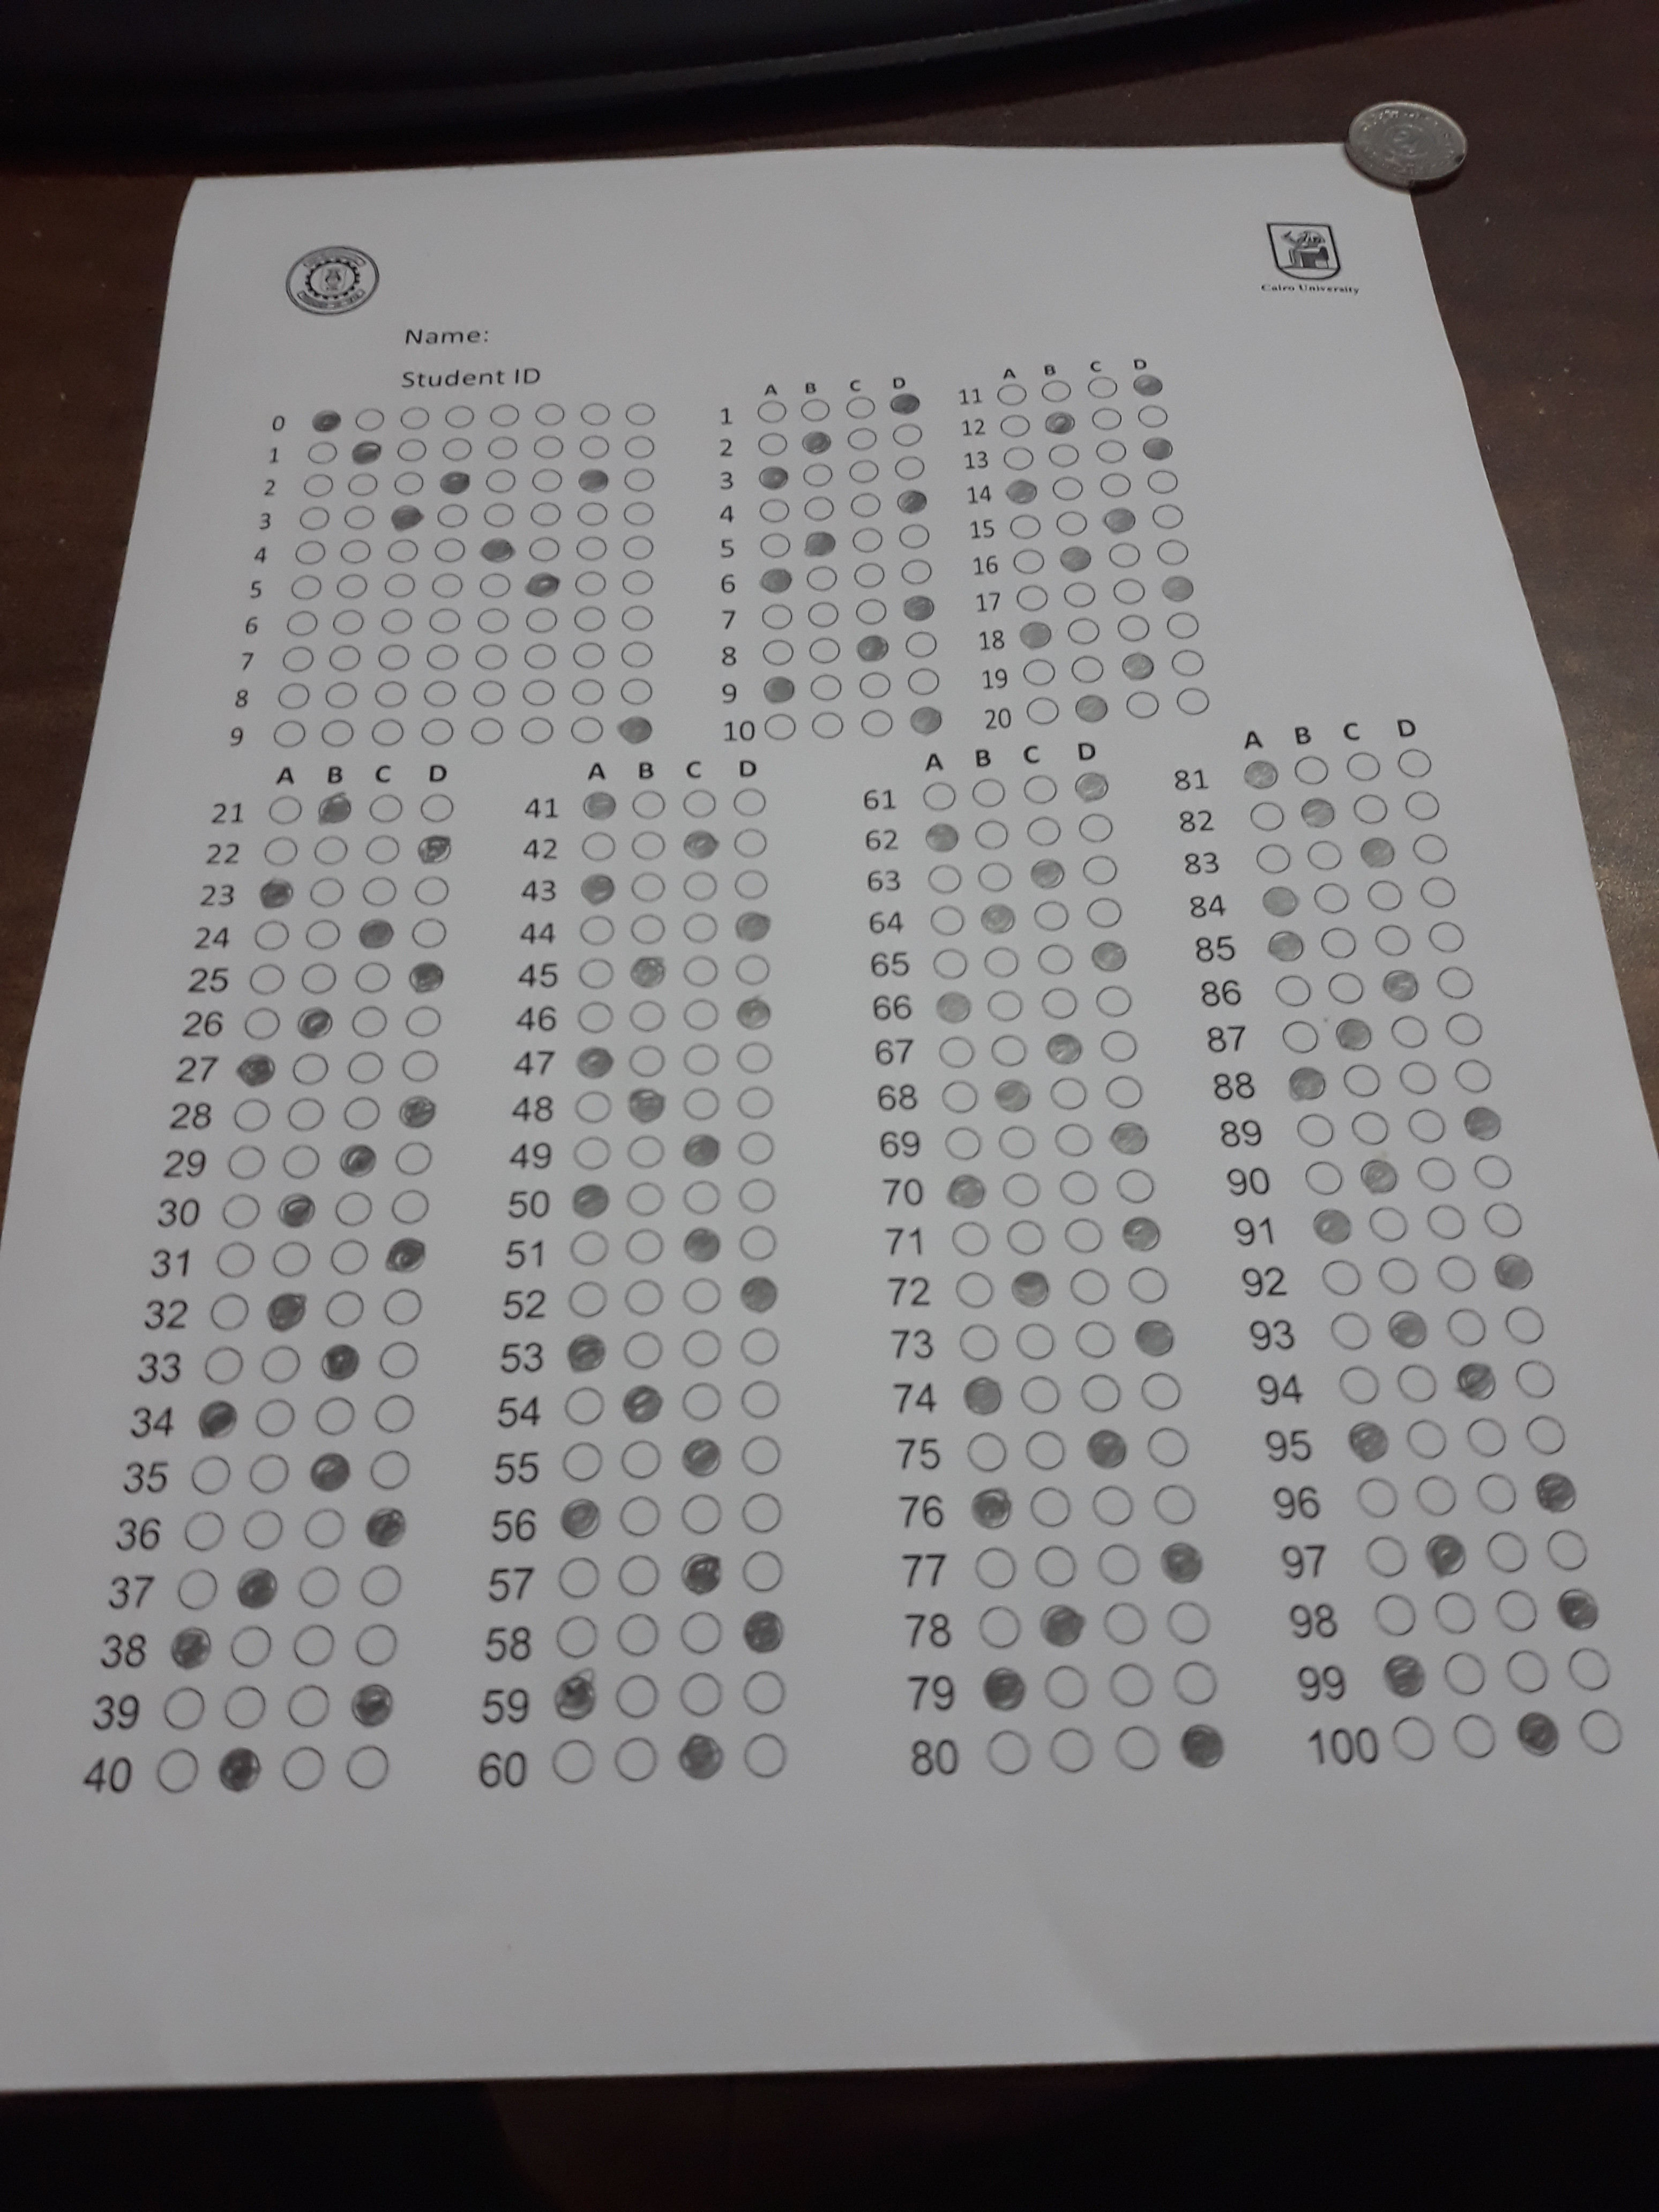not-c: (160, 1681, 211, 1731), (556, 1554, 606, 1604), (1363, 1533, 1413, 1583), (1483, 1527, 1534, 1578), (1047, 1724, 1096, 1775), (613, 1672, 662, 1723), (676, 1670, 725, 1721), (153, 1745, 202, 1796), (221, 1681, 270, 1731), (284, 1681, 333, 1731), (288, 1620, 338, 1669), (676, 1608, 727, 1656), (552, 1613, 601, 1663), (1371, 1592, 1422, 1641), (1431, 1588, 1481, 1637), (1450, 1710, 1499, 1761), (1565, 1644, 1615, 1693), (1096, 1538, 1145, 1588), (1107, 1660, 1155, 1710), (549, 1737, 598, 1785), (985, 1728, 1033, 1777), (612, 1735, 660, 1784), (971, 1541, 1019, 1590), (742, 1731, 791, 1780), (739, 1669, 788, 1717), (343, 1743, 392, 1792), (281, 1743, 329, 1792), (352, 1620, 401, 1669), (227, 1622, 275, 1670), (613, 1611, 662, 1660), (1112, 1723, 1161, 1771), (1542, 1526, 1591, 1575), (1493, 1587, 1542, 1635), (1391, 1714, 1439, 1763), (1441, 1649, 1490, 1698), (1504, 1648, 1553, 1696), (1577, 1707, 1626, 1756), (1019, 1426, 1068, 1475), (1164, 1599, 1213, 1648), (1040, 1663, 1089, 1712), (1171, 1658, 1220, 1707), (1101, 1599, 1150, 1648), (976, 1602, 1025, 1651), (1138, 1367, 1185, 1416), (1392, 1359, 1439, 1407), (1462, 1414, 1511, 1461), (1523, 1409, 1570, 1458), (1473, 1468, 1520, 1517), (1413, 1472, 1460, 1521), (1150, 1480, 1197, 1529), (1026, 1484, 1073, 1533), (1030, 1541, 1077, 1590), (563, 1383, 610, 1430), (737, 1376, 784, 1423), (620, 1273, 667, 1320), (565, 1277, 612, 1324), (357, 1562, 404, 1609), (253, 1395, 300, 1442), (964, 1430, 1011, 1477), (1145, 1425, 1192, 1472), (1326, 1306, 1373, 1353), (1337, 1362, 1384, 1409), (1513, 1355, 1560, 1402), (1403, 1416, 1450, 1463), (1352, 1475, 1399, 1522), (1089, 1484, 1136, 1531), (322, 1284, 368, 1331), (380, 1284, 425, 1331), (681, 1378, 727, 1425), (213, 1235, 258, 1282), (680, 1325, 725, 1372), (622, 1327, 667, 1374), (680, 1271, 725, 1318), (617, 1552, 662, 1599), (296, 1562, 342, 1609), (240, 1507, 286, 1554), (181, 1507, 227, 1554), (188, 1451, 234, 1498), (368, 1447, 413, 1494), (619, 1494, 664, 1541), (739, 1489, 784, 1536), (741, 1432, 786, 1479), (619, 1435, 664, 1482), (561, 1439, 606, 1486), (371, 1390, 416, 1437), (312, 1392, 357, 1439), (258, 1341, 303, 1388), (202, 1341, 247, 1388), (375, 1336, 420, 1383), (268, 1235, 314, 1280), (326, 1235, 371, 1280), (739, 1325, 784, 1371), (174, 1566, 220, 1611), (301, 1505, 347, 1550), (246, 1451, 291, 1496), (742, 1548, 788, 1594), (680, 1491, 725, 1536), (207, 1287, 253, 1332), (1124, 1263, 1171, 1306), (624, 1224, 669, 1268), (566, 1224, 612, 1268), (1002, 1216, 1047, 1259), (948, 1217, 993, 1261), (1375, 1254, 1420, 1298), (1319, 1256, 1364, 1299), (1445, 1306, 1490, 1350), (951, 1268, 999, 1310), (1012, 1318, 1060, 1360), (737, 1221, 781, 1264), (1061, 1214, 1107, 1256), (955, 1322, 1000, 1364), (1068, 1266, 1114, 1308), (1425, 1200, 1471, 1242), (1073, 1318, 1119, 1360), (1364, 1204, 1410, 1245), (1480, 1200, 1525, 1242), (1434, 1254, 1480, 1296), (1504, 1303, 1549, 1345), (1077, 1372, 1122, 1414), (1018, 1374, 1063, 1416), (220, 1190, 263, 1231), (1056, 1169, 1101, 1207), (1338, 1062, 1384, 1101), (1293, 1111, 1338, 1150), (1471, 1153, 1516, 1191), (1413, 1155, 1459, 1193), (342, 1094, 383, 1134), (230, 1096, 272, 1136), (289, 1049, 331, 1089), (345, 1049, 387, 1089), (399, 1045, 441, 1085), (240, 1005, 282, 1045), (680, 951, 721, 991), (732, 949, 774, 989), (352, 956, 394, 996), (251, 916, 293, 956), (394, 1137, 436, 1177), (734, 1083, 775, 1123), (573, 1087, 615, 1127), (680, 1040, 721, 1080), (680, 995, 721, 1035), (575, 996, 617, 1036), (577, 953, 619, 993), (995, 1123, 1039, 1162), (943, 1125, 986, 1163), (1000, 1170, 1044, 1209), (1114, 1167, 1157, 1205), (1452, 1055, 1495, 1094), (1396, 1059, 1439, 1097), (1405, 1106, 1448, 1144), (1349, 1109, 1392, 1148), (1302, 1158, 1345, 1197), (936, 1078, 981, 1115), (301, 914, 342, 954), (281, 1141, 321, 1181), (572, 1134, 613, 1172), (734, 1038, 775, 1076), (284, 1096, 326, 1134), (349, 1003, 390, 1042), (403, 1001, 444, 1040), (680, 909, 721, 948), (296, 960, 338, 998), (246, 961, 288, 1000), (410, 914, 451, 953), (626, 909, 667, 948), (577, 913, 619, 951), (626, 1181, 667, 1219), (681, 1177, 723, 1216), (735, 1177, 777, 1216), (390, 1186, 432, 1224), (331, 1188, 373, 1226), (626, 1132, 667, 1170), (227, 1143, 268, 1181), (735, 1129, 777, 1167), (681, 1085, 723, 1123), (626, 1042, 667, 1080), (626, 996, 667, 1035), (1053, 1122, 1096, 1158), (1277, 1017, 1321, 1054), (1046, 1075, 1089, 1111), (730, 866, 770, 904), (1270, 972, 1312, 1008), (1098, 1028, 1140, 1064), (410, 873, 453, 907), (1039, 984, 1082, 1019), (985, 988, 1026, 1022), (1445, 1012, 1486, 1047), (1103, 1075, 1145, 1109), (979, 944, 1021, 979), (929, 948, 971, 982), (1033, 941, 1075, 975), (1091, 982, 1133, 1017), (807, 707, 847, 742), (760, 709, 800, 744), (565, 712, 605, 747), (518, 712, 558, 747), (615, 674, 655, 709), (467, 714, 507, 749), (469, 676, 509, 711), (416, 714, 457, 749), (422, 639, 462, 674), (373, 639, 413, 674), (321, 678, 361, 712), (279, 641, 319, 676), (681, 867, 721, 902), (359, 874, 399, 909), (260, 834, 300, 869), (680, 787, 720, 822), (1351, 791, 1391, 826), (1344, 749, 1384, 784), (1412, 831, 1452, 866), (1366, 878, 1406, 913), (1312, 880, 1352, 914), (1427, 920, 1467, 954), (1317, 925, 1358, 960), (1389, 1014, 1429, 1049), (924, 860, 964, 895), (1080, 852, 1121, 887), (1075, 810, 1115, 845), (1023, 812, 1063, 846), (972, 817, 1012, 852), (1255, 841, 1295, 876), (1305, 836, 1345, 871), (1066, 653, 1108, 686), (1122, 688, 1164, 721), (568, 674, 606, 709), (617, 637, 655, 672), (471, 639, 509, 674), (270, 716, 308, 751), (317, 716, 355, 751), (324, 641, 362, 676), (274, 679, 312, 714), (312, 833, 350, 867), (629, 827, 667, 862), (416, 789, 455, 824), (1396, 745, 1434, 780), (1403, 789, 1441, 824), (1326, 970, 1364, 1005), (988, 1033, 1026, 1068), (976, 859, 1014, 894), (1019, 770, 1058, 805), (728, 786, 769, 819), (420, 678, 460, 711), (570, 639, 610, 672), (521, 639, 561, 672), (368, 716, 408, 749), (369, 678, 410, 711), (732, 826, 772, 859), (627, 871, 667, 904), (307, 876, 347, 909), (362, 833, 403, 866), (579, 829, 619, 862), (922, 779, 962, 812), (366, 791, 406, 824), (265, 792, 305, 826), (1291, 754, 1331, 787), (1373, 925, 1413, 958), (1434, 965, 1474, 998), (936, 1035, 976, 1068), (925, 904, 965, 937), (1030, 899, 1070, 932), (1086, 895, 1126, 928), (969, 775, 1009, 808), (1025, 695, 1061, 730), (1175, 685, 1213, 718), (1065, 615, 1103, 648), (857, 705, 896, 738), (904, 664, 943, 697), (807, 671, 845, 704), (760, 636, 798, 669), (850, 594, 889, 627), (805, 597, 843, 631), (758, 599, 796, 632), (849, 559, 887, 592), (800, 491, 838, 524), (518, 678, 556, 711), (629, 787, 667, 820), (1248, 799, 1286, 833), (1419, 876, 1457, 909), (523, 604, 563, 636), (1110, 575, 1147, 608), (1054, 507, 1091, 540), (896, 519, 932, 552), (1009, 547, 1047, 578), (1019, 657, 1058, 688), (1061, 580, 1100, 611), (1012, 582, 1051, 613), (856, 669, 894, 700), (903, 629, 941, 660), (805, 634, 843, 665), (802, 563, 840, 594), (897, 556, 936, 587), (1105, 540, 1143, 571), (1006, 510, 1044, 542), (849, 524, 887, 556), (756, 529, 793, 561), (847, 488, 884, 519), (620, 399, 659, 428), (620, 432, 659, 462), (619, 531, 657, 561), (530, 432, 568, 462), (620, 463, 659, 493), (620, 498, 659, 528), (573, 498, 612, 528), (526, 500, 565, 529), (528, 465, 566, 495), (483, 465, 521, 495), (481, 500, 519, 529), (432, 502, 471, 531), (340, 502, 378, 531), (296, 503, 335, 533), (390, 469, 429, 498), (300, 472, 338, 502), (439, 434, 477, 463), (392, 435, 430, 465), (441, 401, 479, 430), (397, 402, 436, 432), (303, 439, 342, 469), (352, 402, 390, 432), (484, 401, 523, 430), (892, 453, 931, 482), (570, 533, 608, 563), (525, 533, 563, 563), (336, 535, 375, 564), (291, 538, 329, 568), (577, 399, 615, 428), (845, 456, 884, 486), (798, 458, 836, 488), (889, 420, 927, 449), (840, 392, 878, 421), (796, 395, 835, 425), (753, 397, 791, 427), (570, 603, 608, 632), (474, 604, 512, 634), (425, 606, 464, 636), (376, 606, 415, 636), (282, 608, 321, 637), (331, 571, 369, 601), (380, 570, 418, 599), (429, 570, 467, 599), (476, 570, 514, 599), (570, 570, 608, 599), (619, 566, 657, 596), (1164, 611, 1202, 641), (1148, 502, 1187, 531), (1143, 469, 1182, 498), (1096, 470, 1134, 500), (1049, 474, 1087, 503), (1093, 435, 1131, 465), (1044, 441, 1082, 470), (999, 444, 1037, 474), (1084, 373, 1122, 402), (1037, 374, 1075, 404), (575, 430, 612, 460), (756, 495, 793, 524), (484, 434, 521, 463), (430, 535, 467, 564), (383, 536, 420, 566), (845, 423, 882, 453), (619, 603, 655, 632), (1169, 648, 1206, 678), (1115, 613, 1152, 643), (1134, 402, 1171, 432), (1089, 404, 1126, 434), (997, 409, 1033, 439), (532, 401, 570, 428), (343, 470, 382, 498), (755, 428, 793, 456), (329, 608, 368, 636), (286, 573, 324, 601), (1154, 538, 1192, 566), (992, 380, 1030, 408)
taken-c: (359, 1501, 418, 1555), (674, 1550, 732, 1604), (160, 1622, 218, 1674), (547, 1670, 605, 1723), (211, 1743, 268, 1796), (345, 1679, 403, 1731), (1175, 1719, 1232, 1770), (228, 1562, 282, 1611), (735, 1609, 789, 1656), (978, 1665, 1032, 1712), (1033, 1602, 1087, 1649), (1154, 1540, 1208, 1587), (962, 1486, 1016, 1533), (1082, 1425, 1136, 1472), (1513, 1710, 1567, 1757), (1380, 1653, 1434, 1700), (1530, 1470, 1584, 1517), (1452, 1359, 1506, 1406), (1382, 1305, 1436, 1352), (676, 1733, 728, 1780), (955, 1374, 1007, 1421), (1553, 1587, 1605, 1634), (1340, 1418, 1392, 1465), (1488, 1249, 1540, 1296), (1422, 1531, 1476, 1576), (556, 1494, 608, 1540), (380, 1233, 434, 1277), (613, 1383, 667, 1426), (190, 1397, 244, 1440), (674, 1223, 727, 1266), (734, 1271, 786, 1315), (561, 1331, 613, 1374), (260, 1289, 312, 1332), (314, 1339, 366, 1383), (307, 1451, 352, 1494), (680, 1433, 723, 1477), (1131, 1318, 1178, 1359), (1309, 1205, 1352, 1247), (1358, 1158, 1403, 1198), (234, 1050, 281, 1089), (1009, 1270, 1053, 1310), (573, 869, 619, 907), (627, 953, 673, 991), (573, 1043, 619, 1082), (626, 1085, 671, 1123), (678, 1130, 723, 1169), (394, 1090, 439, 1129), (335, 1141, 380, 1179), (293, 1003, 338, 1042), (728, 906, 775, 942), (274, 1191, 321, 1228), (1119, 1216, 1164, 1252), (1040, 1031, 1086, 1068), (1283, 1066, 1328, 1103), (732, 996, 777, 1033), (568, 1181, 613, 1217), (945, 1172, 988, 1209), (1263, 928, 1309, 963), (990, 1078, 1035, 1113), (1105, 1122, 1150, 1157), (1380, 967, 1422, 1003), (1460, 1106, 1504, 1141), (1331, 1017, 1375, 1052), (404, 961, 448, 996), (354, 914, 397, 949), (413, 831, 457, 866), (312, 791, 355, 826), (931, 989, 972, 1024), (579, 787, 620, 822), (254, 876, 296, 911), (678, 827, 721, 860), (1297, 796, 1338, 829), (978, 900, 1019, 934), (1072, 770, 1114, 803), (1089, 942, 1131, 974), (1260, 885, 1302, 916), (1356, 838, 1398, 869), (1026, 859, 1068, 890), (922, 822, 964, 853), (1241, 759, 1283, 791), (617, 714, 655, 745), (1073, 691, 1112, 723), (1119, 650, 1157, 681), (856, 632, 894, 664), (1014, 618, 1053, 650), (1058, 543, 1096, 575), (760, 674, 798, 704), (906, 704, 945, 733), (1159, 573, 1197, 603), (899, 592, 938, 622), (758, 566, 796, 596), (1040, 408, 1077, 435), (479, 538, 516, 566), (387, 503, 423, 531), (1101, 505, 1138, 533), (755, 463, 791, 491), (1129, 373, 1164, 401), (577, 465, 612, 493), (308, 406, 343, 434), (1140, 435, 1175, 463), (885, 392, 922, 418), (802, 529, 838, 556), (525, 571, 559, 597), (437, 469, 472, 495), (349, 439, 383, 465), (892, 488, 927, 514), (1004, 479, 1039, 505), (798, 428, 833, 455)
